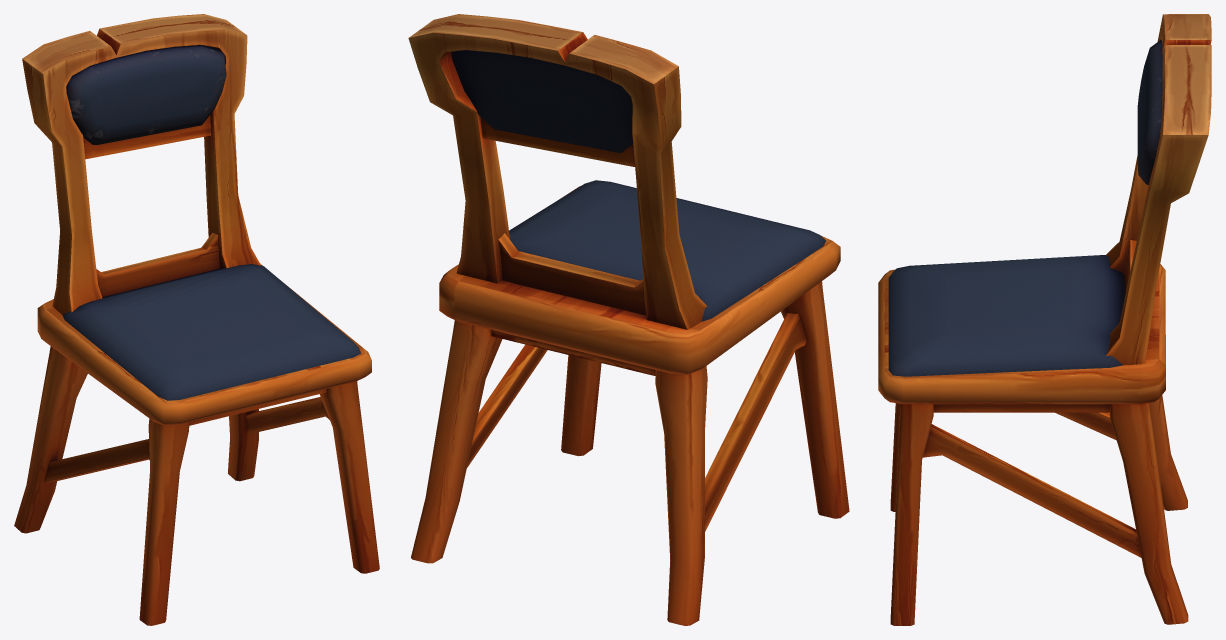
Rendered from Chair01.FBX.
3 views of the same model, side by side, from view 1: azimuth 30°, elevation 25°; view 2: azimuth 150°, elevation 25°; view 3: azimuth 270°, elevation 25° (orthographic). The views are drawn at different scales.
Parts seen in each view (by area): view 1: Chair01; view 2: Chair01; view 3: Chair01.
Boxes of the visible parts, x1,y1,x2,y2 form: Chair01: (14,14,379,625); Chair01: (408,14,849,625); Chair01: (878,14,1211,625).
Size of what is drawn, in the model's own units: 0.4923 by 0.9428 by 0.5599.
